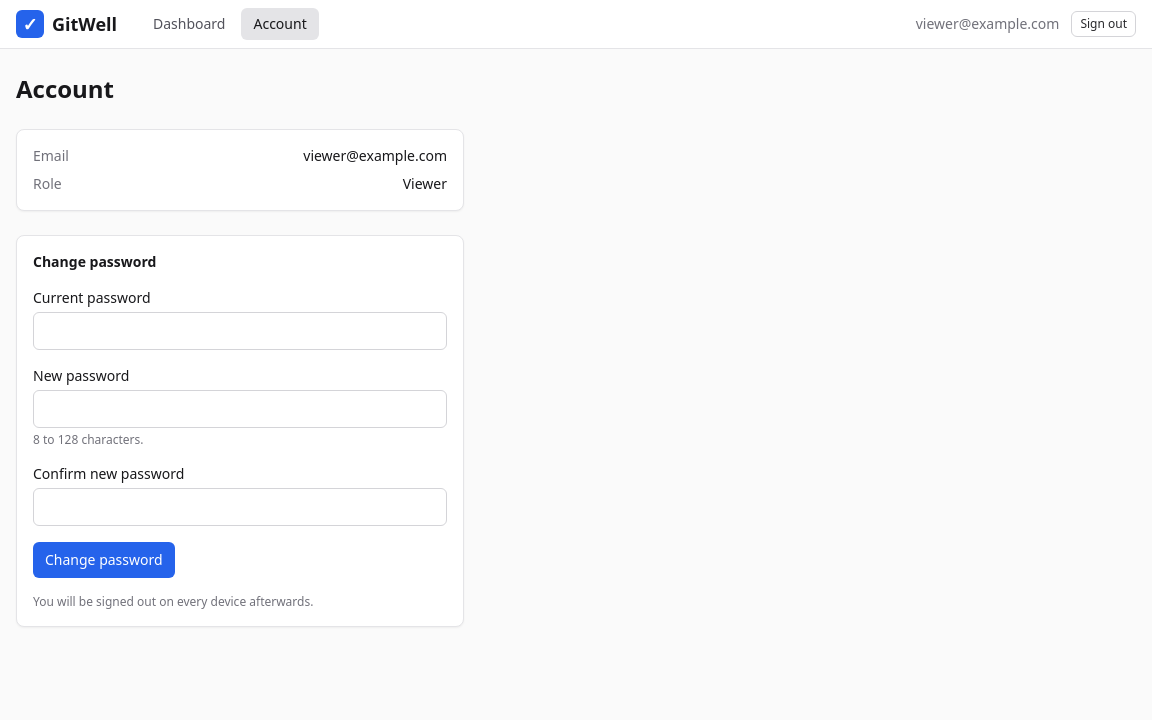
it: account page › reports a wrong current password without logging the user out
The width and height of the screenshot is (1152, 720).
Type "test-wrong-password" into the password field labelled "Current password". click: (240, 331)
box: [33,312,447,350]
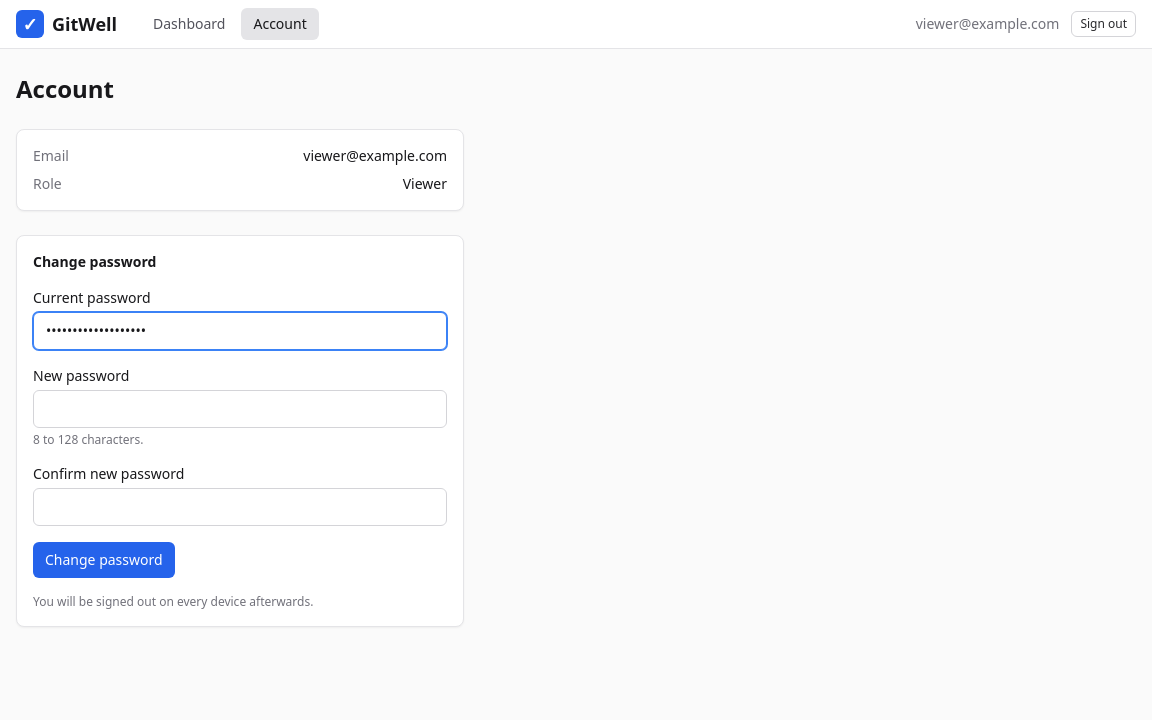
Type "new-password-1" into the password field labelled "New password". click: (240, 409)
box: [33,390,447,428]
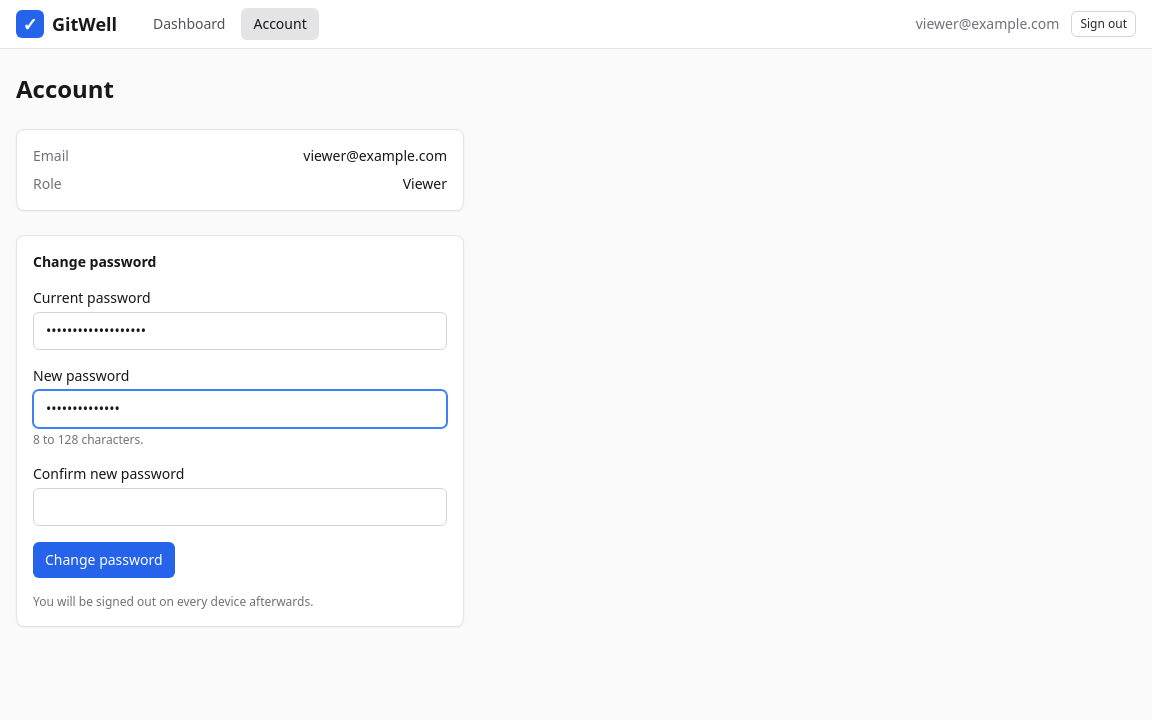
Type "new-password-1" into the password field labelled "Confirm new password". click: (240, 507)
box: [33,488,447,526]
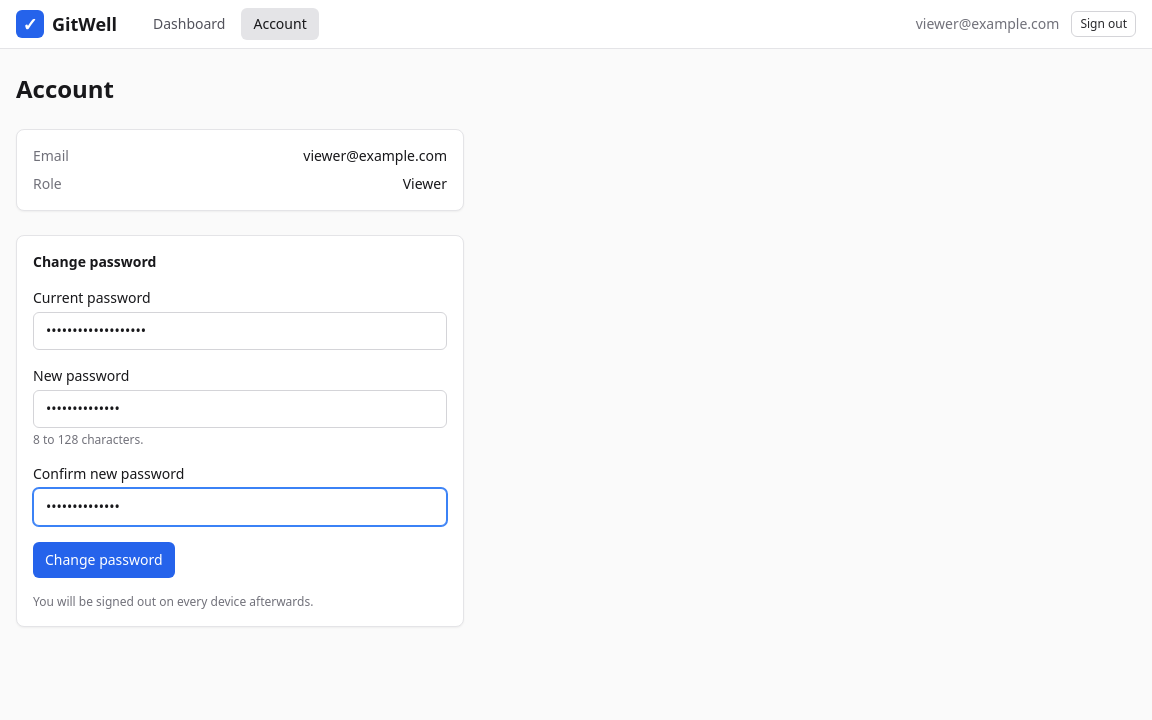
Click the button "Change password". click: click(104, 560)
box: [33,542,175,578]
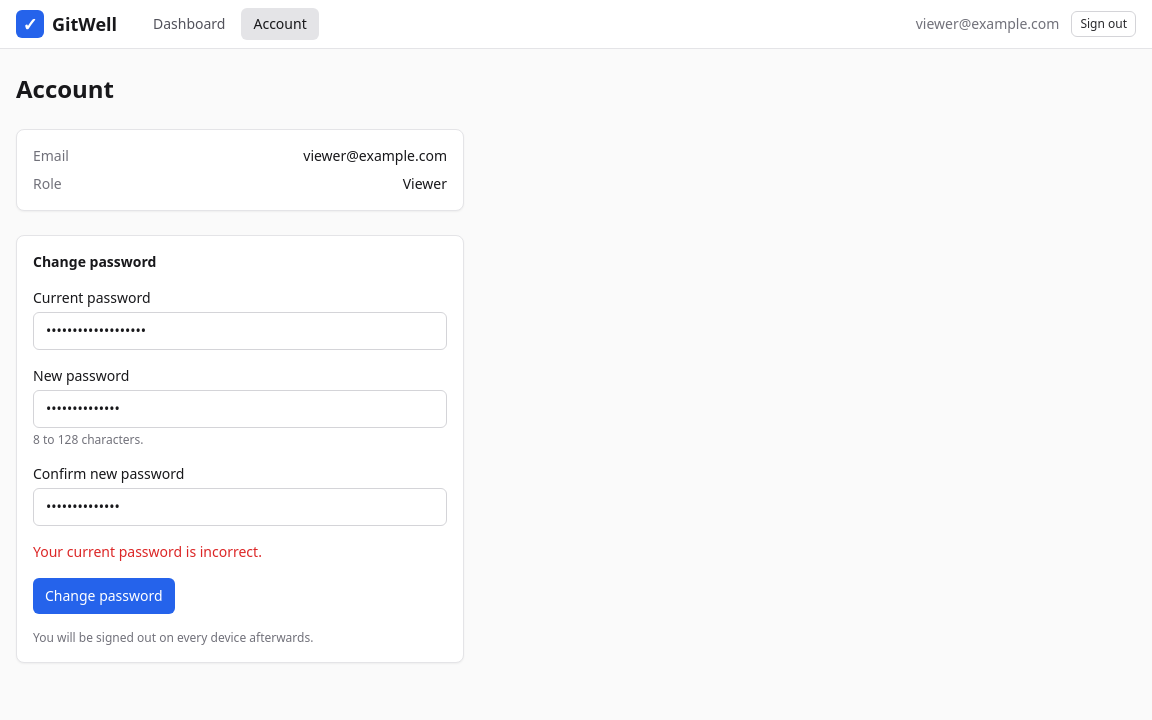
expect the text "Your current password is incorrect." is shown: met, box [33,542,262,561]
